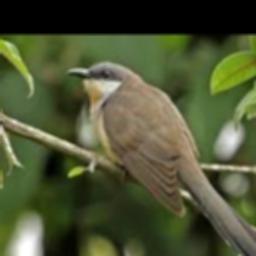Cuckoo: (65, 60, 256, 256)
